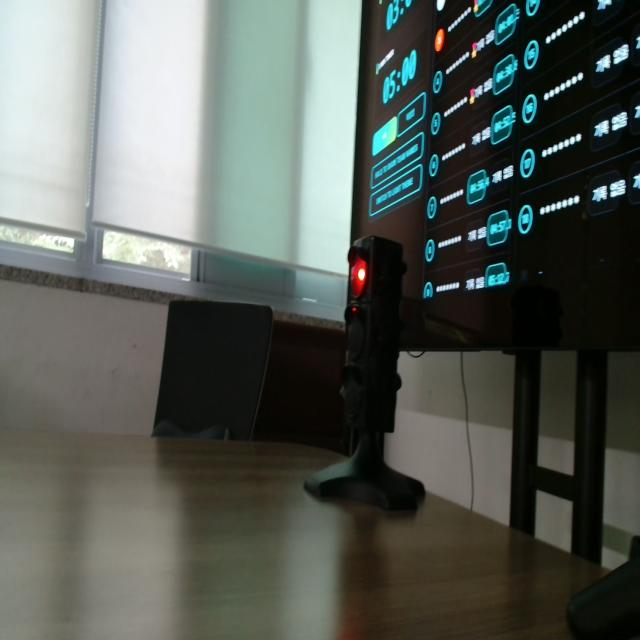red_light: (351, 256, 367, 297), (432, 29, 445, 52), (357, 268, 365, 282)
